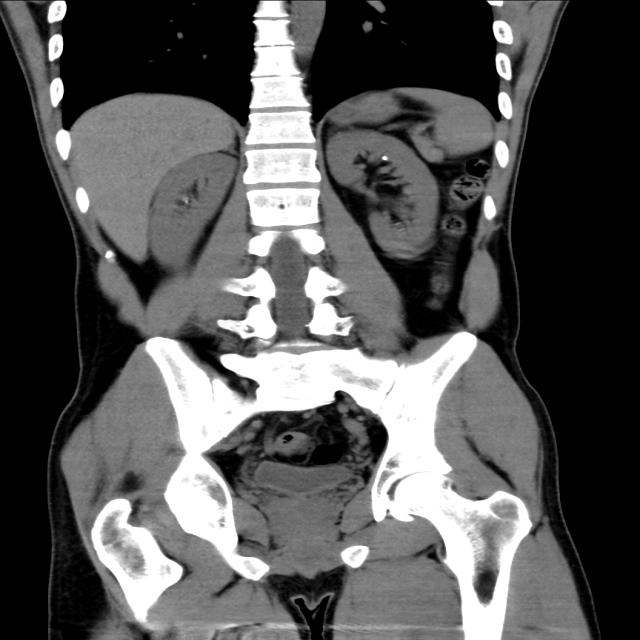kidneystone: (382, 155, 388, 161)
